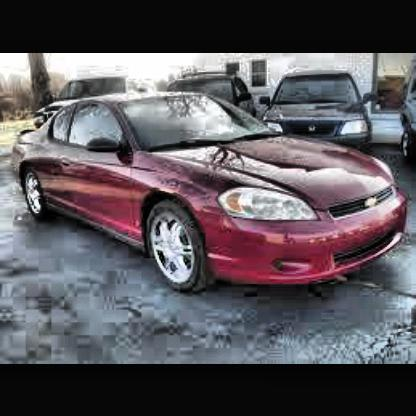Chevrolet Monte Carlo Coupe 2007: (14, 85, 409, 301)
